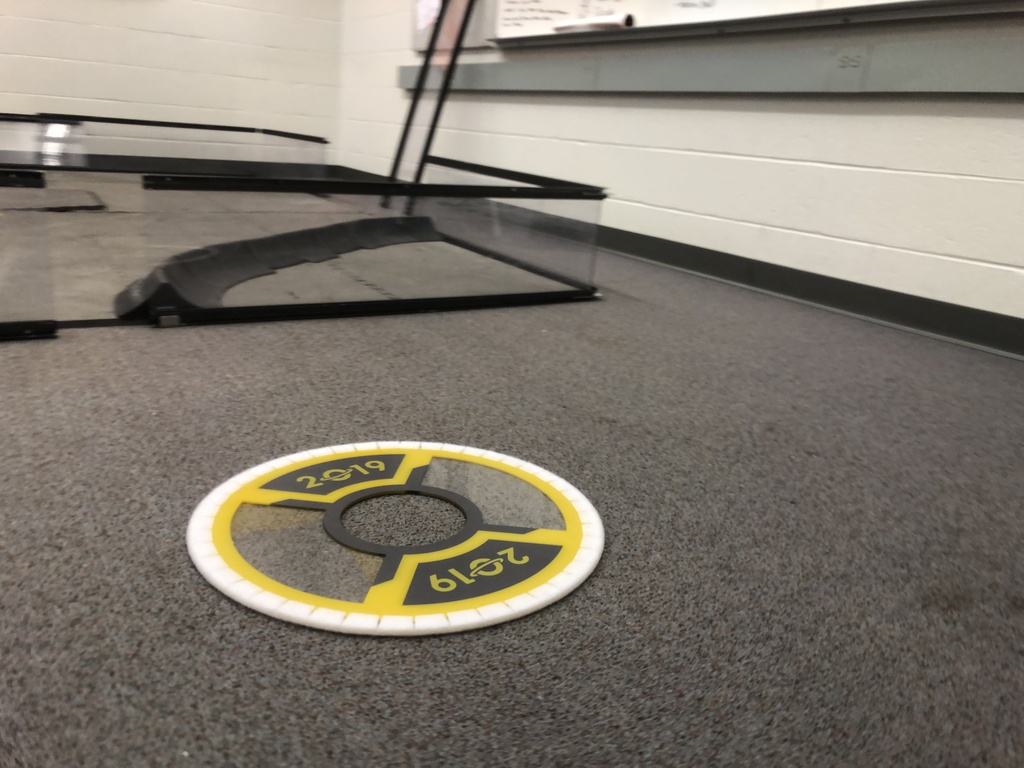hatch_panel: (177, 424, 616, 644)
